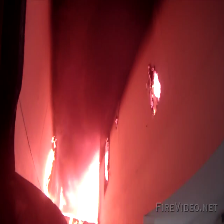fire_h: (59, 151, 99, 224), (43, 150, 54, 200)
fire_l: (153, 71, 160, 99), (104, 150, 109, 179), (52, 137, 56, 148)
